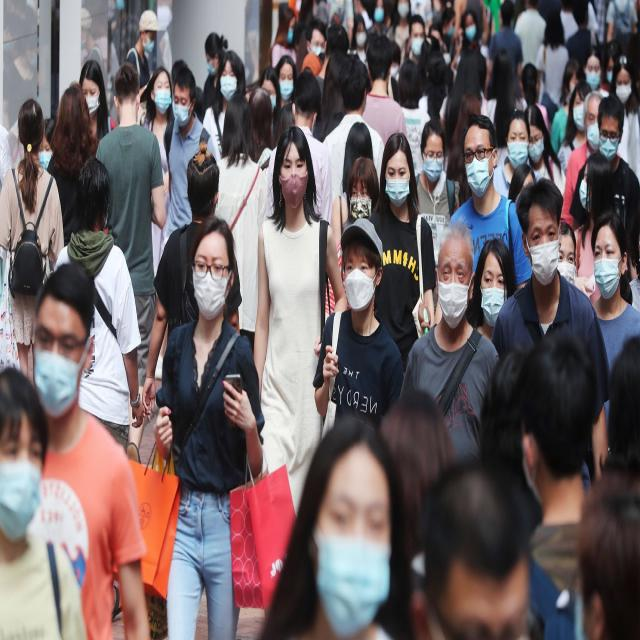adult: (152, 218, 262, 640), (33, 278, 143, 640), (253, 124, 340, 546), (494, 181, 607, 477), (277, 418, 399, 640), (53, 157, 142, 450), (394, 227, 498, 471), (517, 329, 595, 640), (0, 370, 84, 640), (96, 62, 167, 342), (312, 216, 400, 431), (0, 92, 59, 377), (366, 132, 437, 350), (446, 113, 530, 293), (163, 65, 214, 256), (579, 99, 638, 237), (592, 210, 639, 362), (560, 95, 601, 222), (202, 50, 246, 164), (418, 118, 453, 216), (523, 105, 561, 194)
